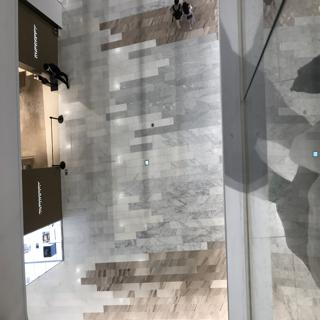person: (169, 1, 185, 32)
